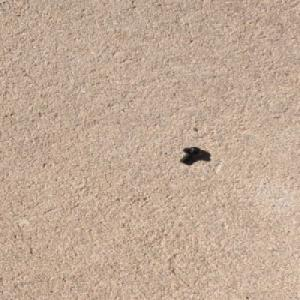BoltWasher: (179, 146, 204, 163)
